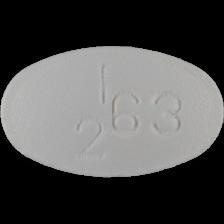68084-525: (0, 0, 224, 224)
